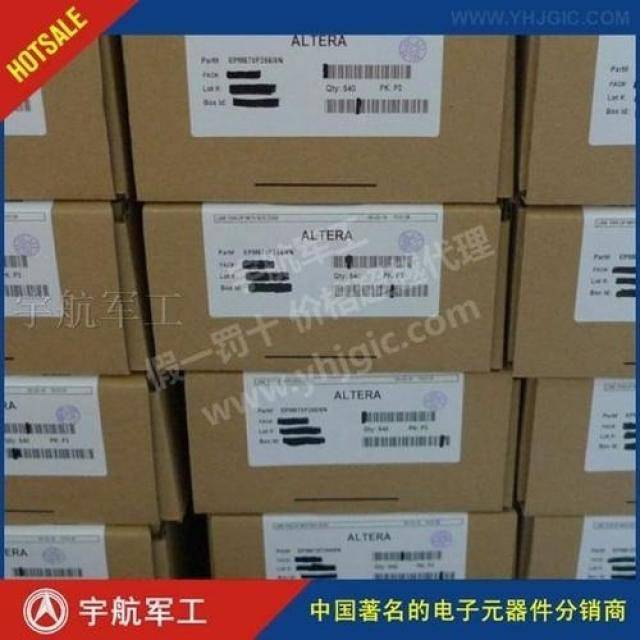box: (119, 36, 516, 203), (136, 204, 512, 375), (181, 368, 518, 515), (3, 373, 185, 528), (5, 205, 153, 377), (206, 501, 522, 580), (507, 204, 635, 381), (4, 36, 134, 205), (516, 36, 636, 207), (514, 381, 635, 517), (4, 522, 196, 580), (516, 515, 634, 578)
